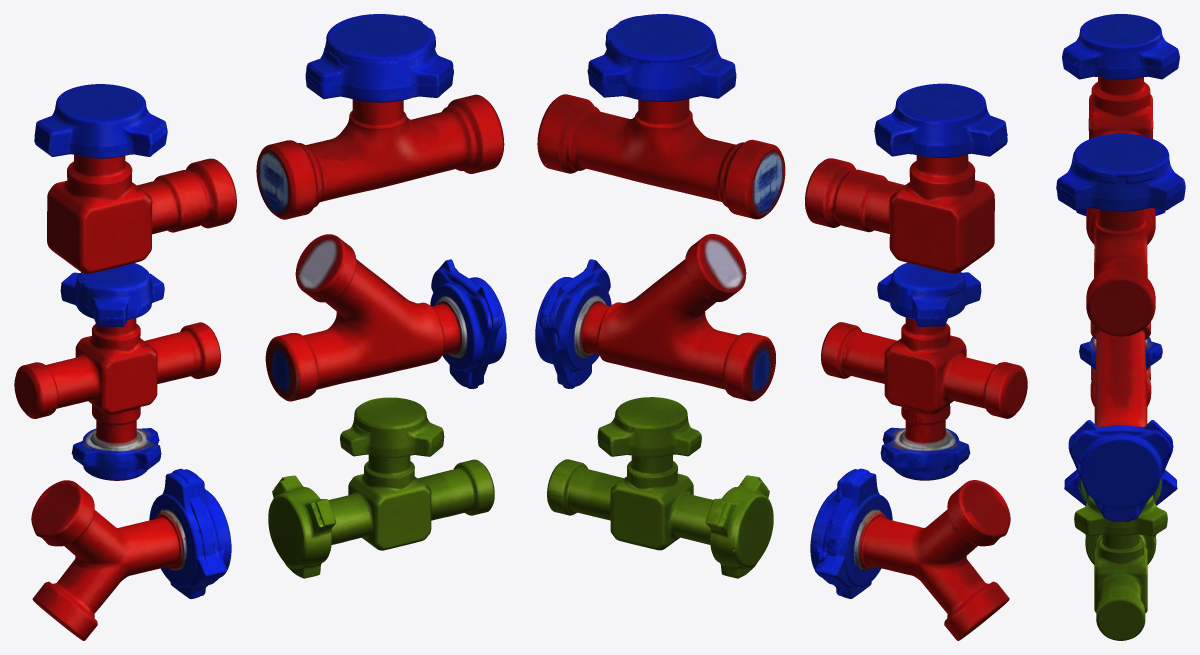
File: AccesoriosConexion.glb
The picture shows the model from 3 angles, left to right: view 1: azimuth 30°, elevation 25°; view 2: azimuth 150°, elevation 25°; view 3: azimuth 270°, elevation 25°; orthographic projection. The views are drawn at different scales.
Parts seen in each view (by area): view 1: tripo_node_79f28626-21cd-4cc4-b5ed-1a84cd3a57b2; view 2: tripo_node_79f28626-21cd-4cc4-b5ed-1a84cd3a57b2; view 3: tripo_node_79f28626-21cd-4cc4-b5ed-1a84cd3a57b2.
Part boxes in pixels (x1,y1,x2,y2): tripo_node_79f28626-21cd-4cc4-b5ed-1a84cd3a57b2: (14, 14, 506, 640); tripo_node_79f28626-21cd-4cc4-b5ed-1a84cd3a57b2: (535, 14, 1027, 640); tripo_node_79f28626-21cd-4cc4-b5ed-1a84cd3a57b2: (1056, 14, 1185, 640).
Size of the model in its own units: 0.8926 by 0.9782 by 0.243.
Materials: 1 (1 with a texture image).
